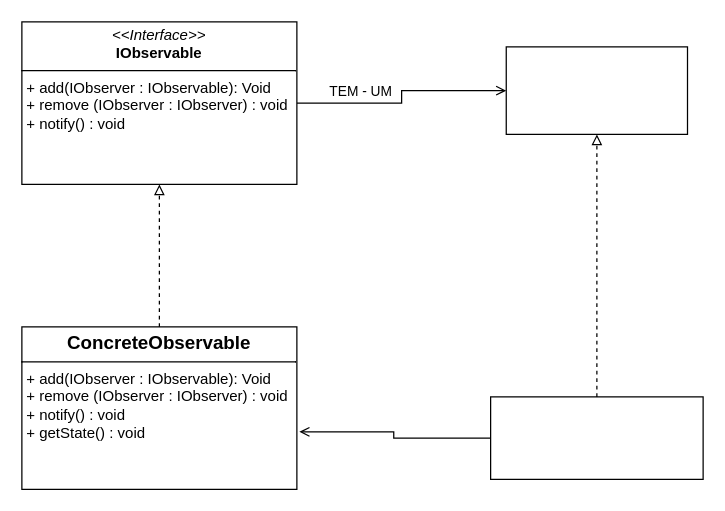
The diagram is 725 pixels wide and 511 high, and some of its shapes have lost their labels. The shapes that lost their labels are listed below. From the top down, each one's centre as x and y in pixels, then its label:
(596,90): <<Interface>> IObserver + update() : Void
(596,437): ConcreteObserver + update() : Void
